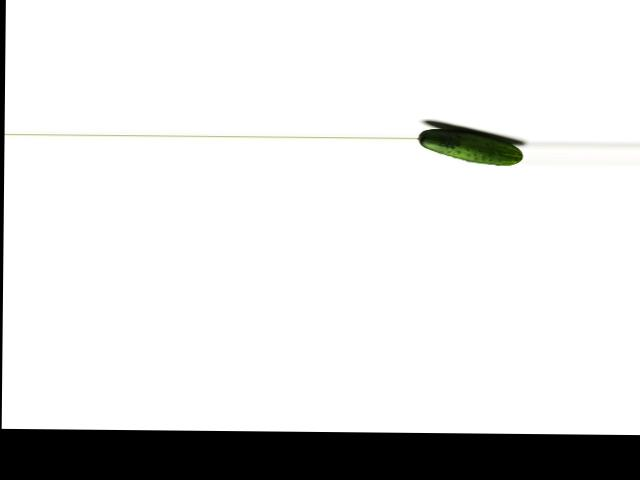cucumber: (416, 127, 522, 165)
